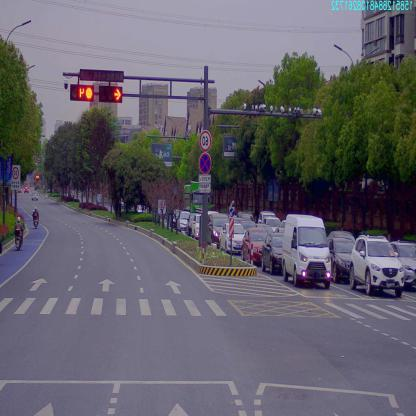traffic-light: (70, 84, 94, 102), (102, 87, 122, 98)
